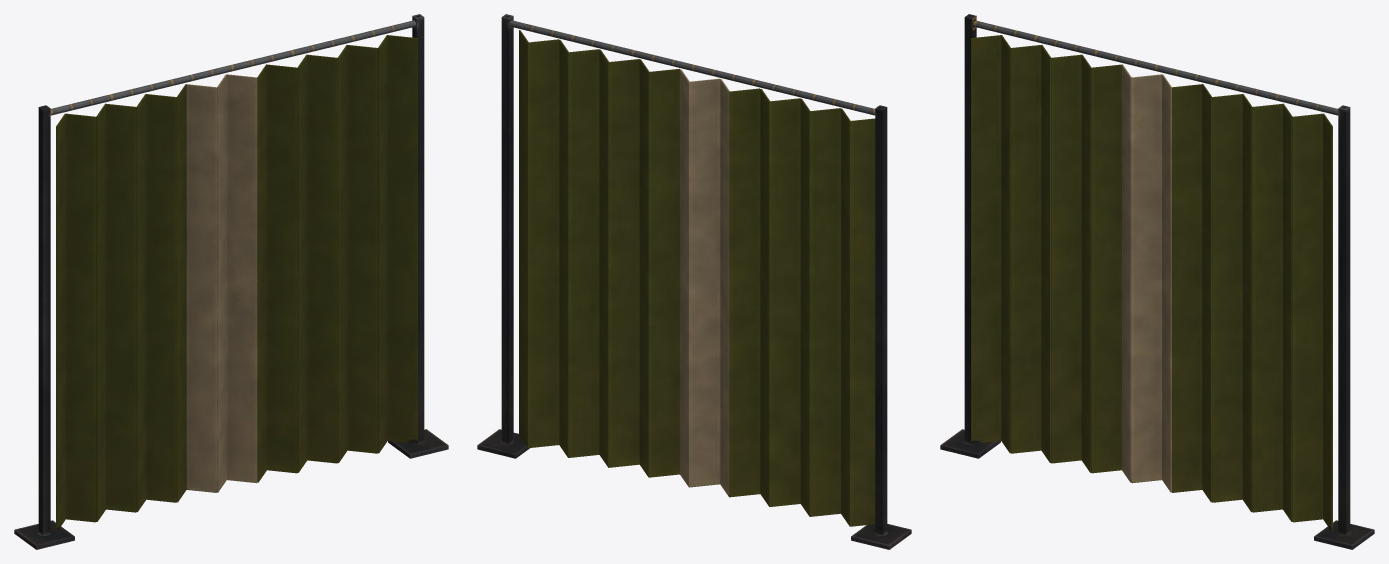
Rendered from curtain_partition.glb.
3 views of the same model, side by side, from view 1: azimuth 30°, elevation 25°; view 2: azimuth 150°, elevation 25°; view 3: azimuth 330°, elevation 25° (orthographic).
Parts seen in each view (by area): view 1: curtain_partition; view 2: curtain_partition; view 3: curtain_partition.
Part boxes in pixels (x1,y1,x2,y2): curtain_partition: (14,14,448,549); curtain_partition: (477,14,911,549); curtain_partition: (940,14,1374,549).
Size of the model in its own units: 2.14 by 2.13 by 0.2.
1 material, 1 textured.
